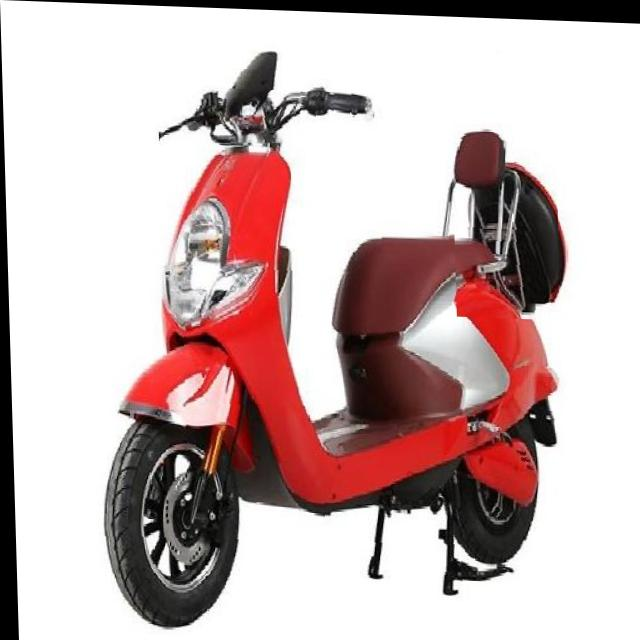All: (71, 62, 567, 640)
Head: (157, 85, 376, 151)
Tail: (453, 223, 537, 315)
